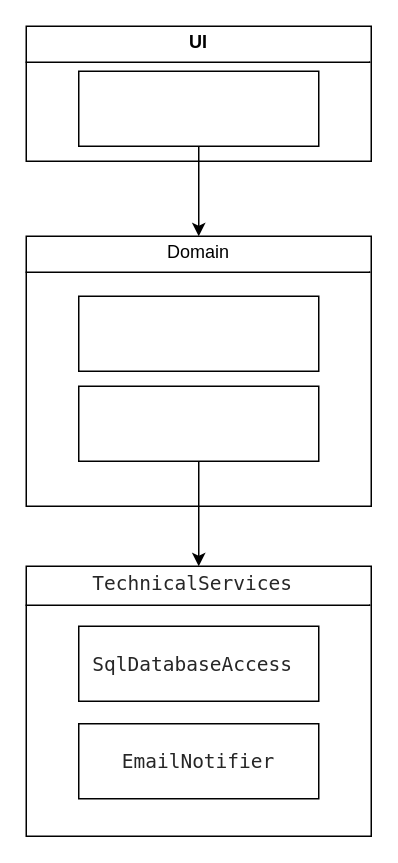
The diagram is 398 pixels wide and 863 high, and some of its shapes have lost their labels. The shapes that lost their labels are listed below. From the top down, each one's centre as x and y in pixels, then its label:
At point (198, 108): "BookDetailsWebPage".
At point (198, 333): "ShoppingCart".
At point (198, 423): "Book".
